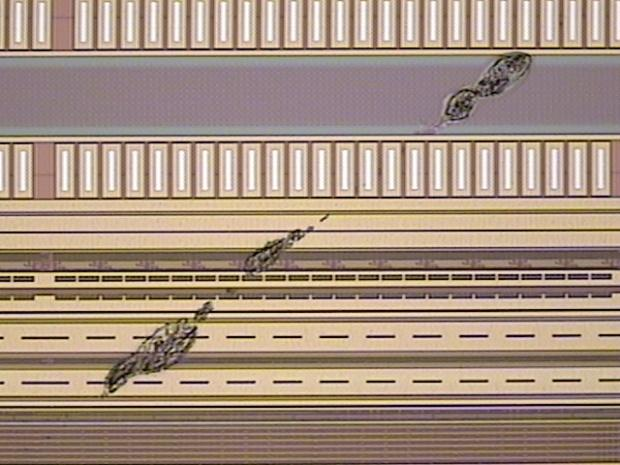SCRATCH: (92, 46, 540, 408)
